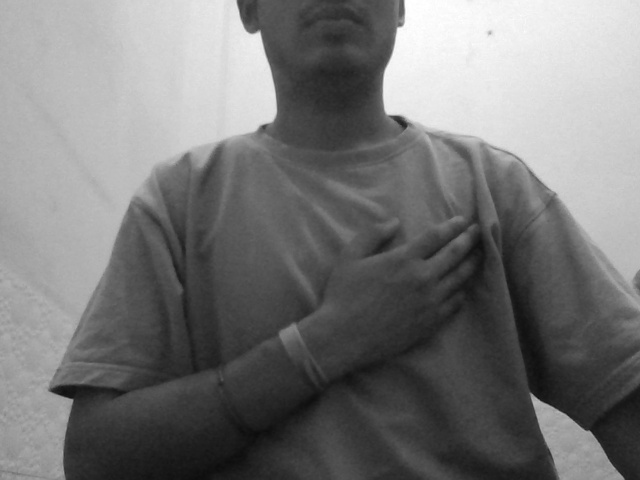Sorry: (282, 188, 542, 395)
